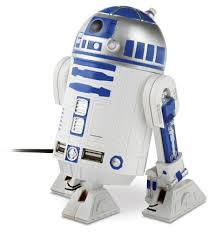r2d2: (50, 5, 206, 225)
